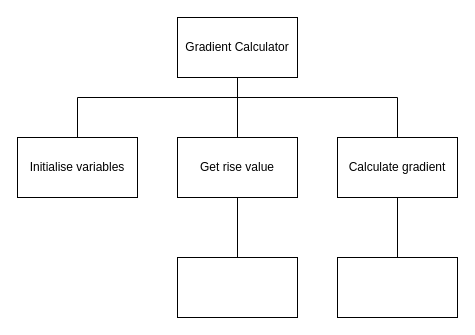
The diagram is 475 pixels wide and 335 high, and some of its shapes have lost their labels. The shapes that lost their labels are listed below. From the top down, each one's centre as x and y in pixels, then its label:
At (x=237, y=287): "Get run value".
At (x=397, y=287): "Display gradient".
